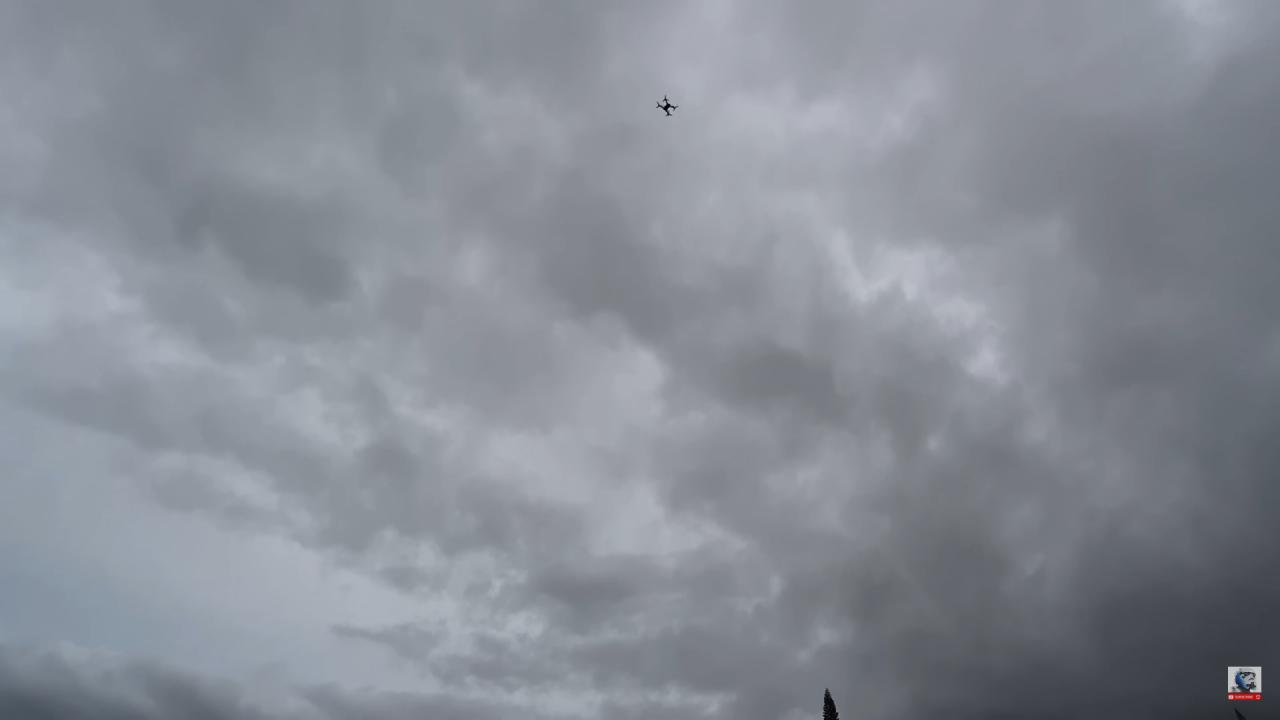Drone: (648, 90, 694, 129)
